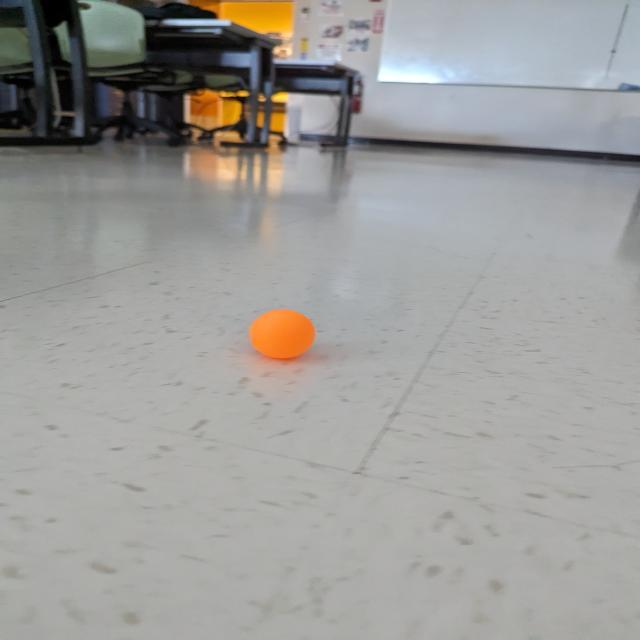ping-pong-ball: (244, 306, 324, 362)
